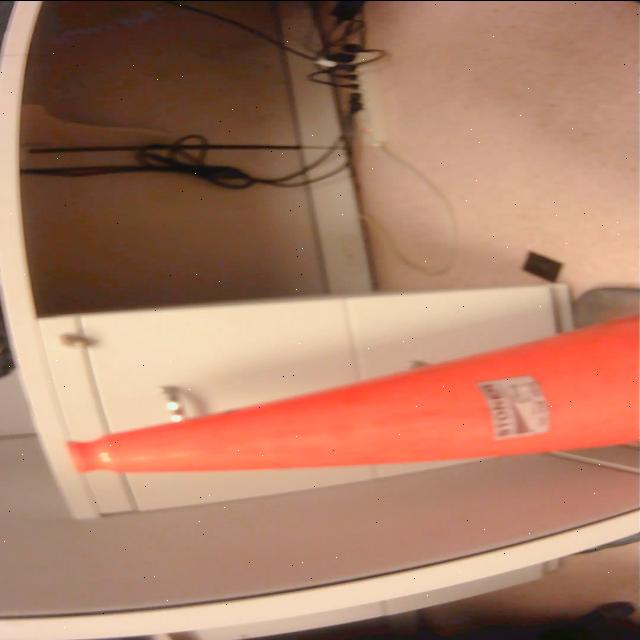traffic cone: (58, 282, 640, 483)
